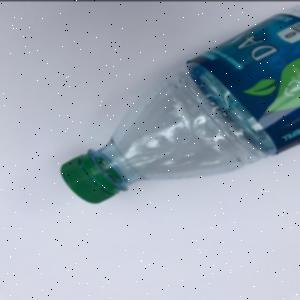Plastic-bottle: (61, 1, 300, 205)
